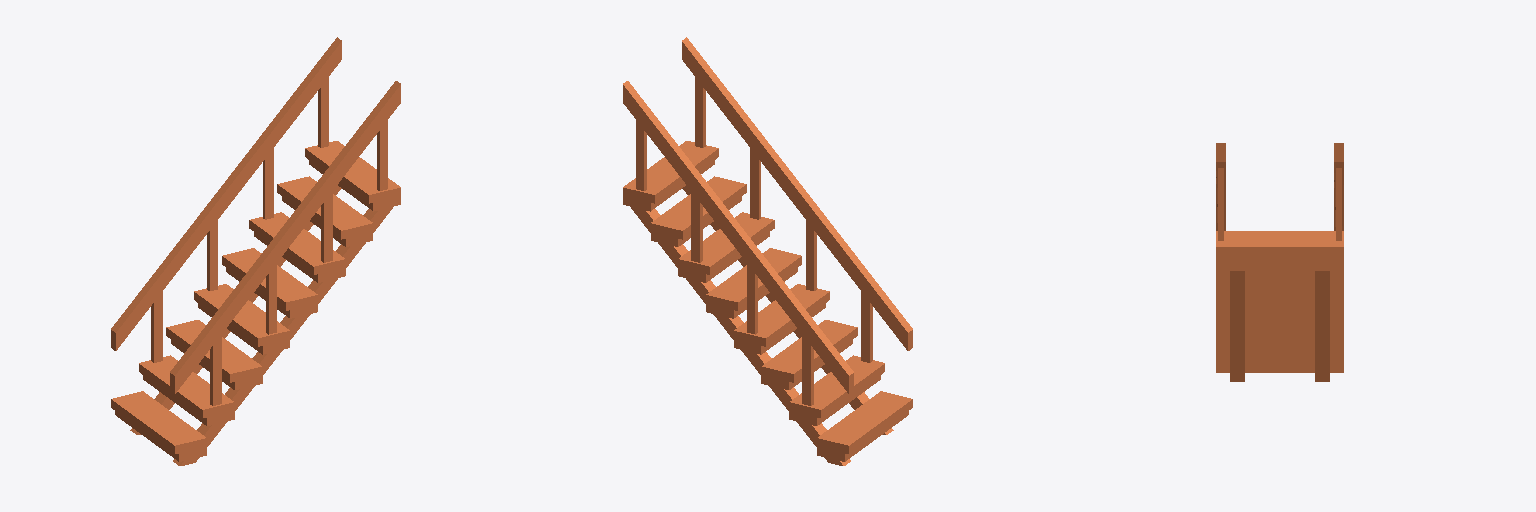
Rendered from stairsWoodHandrail.obj.
3 views of the same model, side by side, from view 1: azimuth 30°, elevation 25°; view 2: azimuth 150°, elevation 25°; view 3: azimuth 270°, elevation 25° (orthographic).
Visible parts, largest first — view 1: stairsWoodHandrail, rail; view 2: stairsWoodHandrail, rail; view 3: stairsWoodHandrail, rail.
Boxes of the visible parts, box(x1,y1,x2,y2) form: stairsWoodHandrail: box(111, 141, 400, 465); rail: box(111, 37, 400, 405); stairsWoodHandrail: box(623, 141, 912, 465); rail: box(623, 37, 912, 405); stairsWoodHandrail: box(1216, 231, 1343, 381); rail: box(1216, 143, 1343, 240).
Bounding box in the file's own units: 1.02 × 1.45 × 0.5.